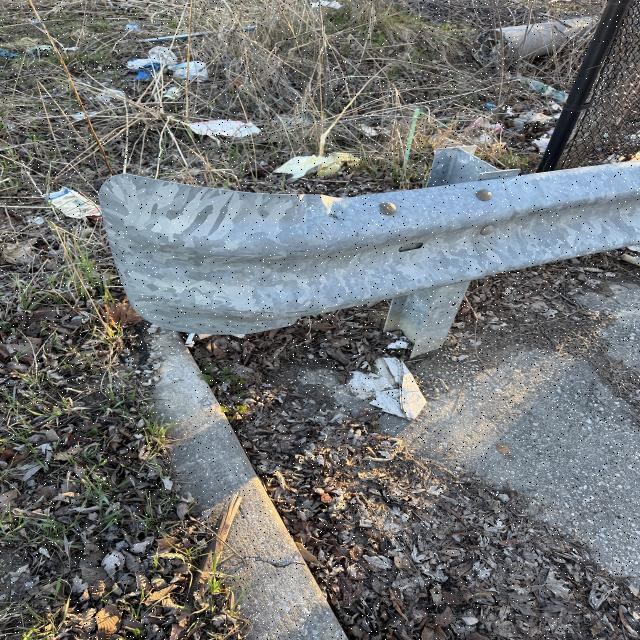Guard rail: (125, 158, 636, 326)
